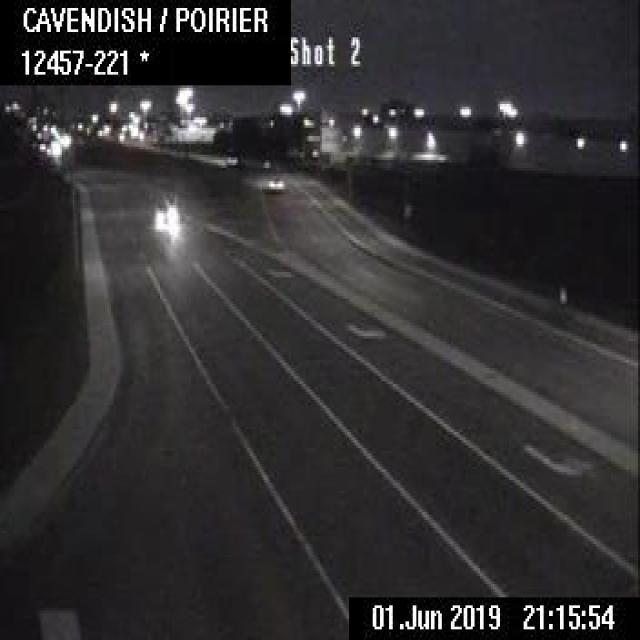vehicle: (152, 201, 177, 227), (264, 173, 284, 192)
